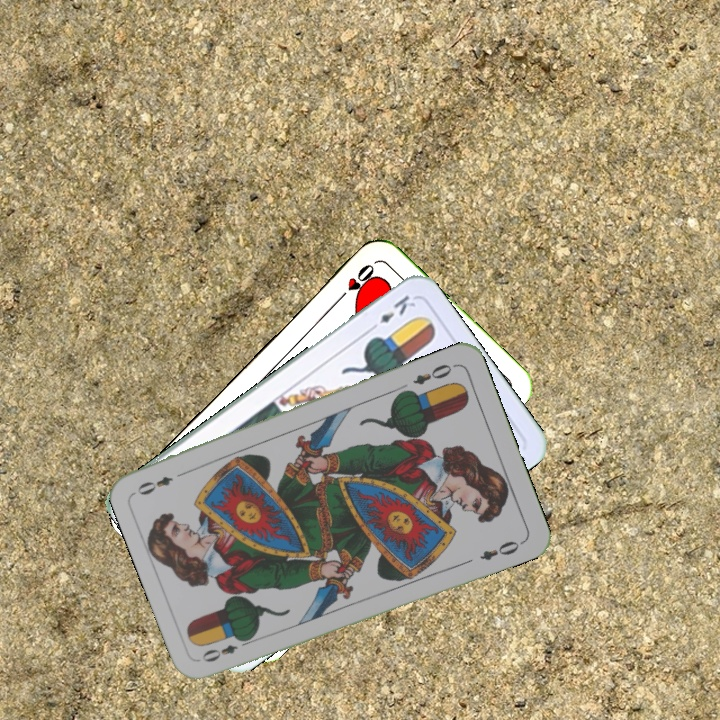EK: (364, 291, 419, 335)
EO: (197, 634, 254, 665), (409, 359, 459, 388)
HO: (332, 259, 377, 306)
